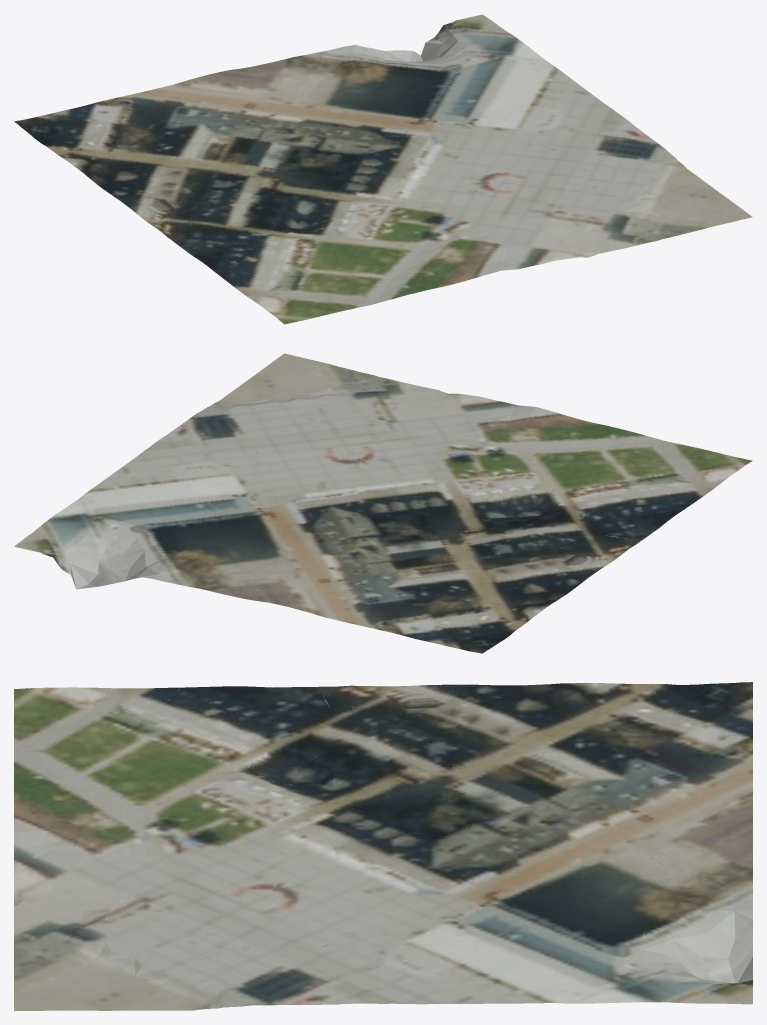
3 views of the same model, one above another, from view 1: azimuth 30°, elevation 25°; view 2: azimuth 150°, elevation 25°; view 3: azimuth 270°, elevation 25° (orthographic). The views are drawn at different scales.
Bounding box in the file's own units: 104 × 7.59 × 104.
Materials: 2 (2 with a texture image).
